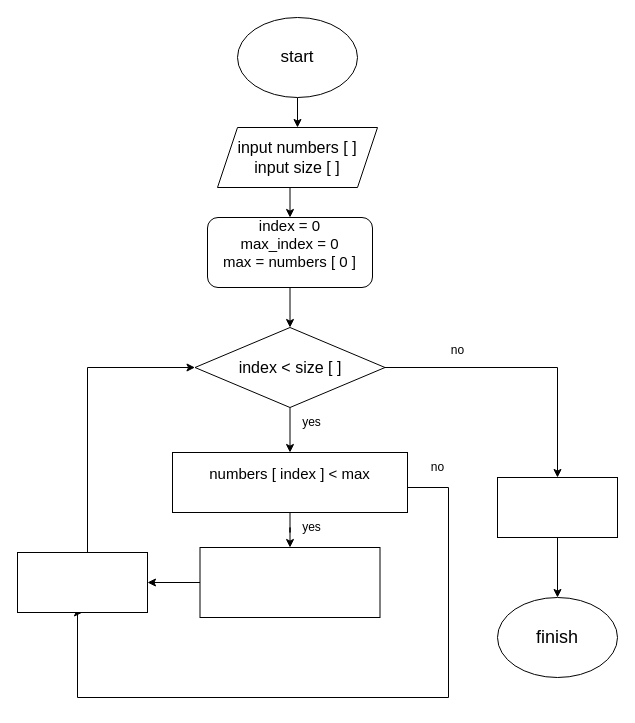
The diagram is 635 pixels wide and 723 high, and some of its shapes have lost their labels. The shapes that lost their labels are listed below. From the top down, each one's centre as x and y in pixels, then its label:
pixel 557 507: print max print max_index
pixel 82 582: index = index + 1
pixel 289 582: max = numbers [ index ] max_index = index
